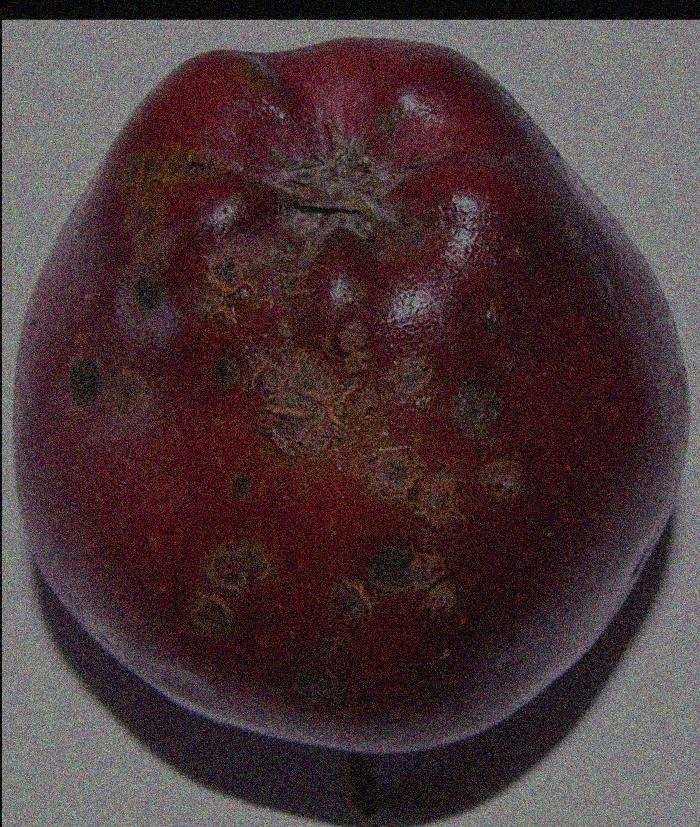rotten apple: (8, 37, 688, 774)
